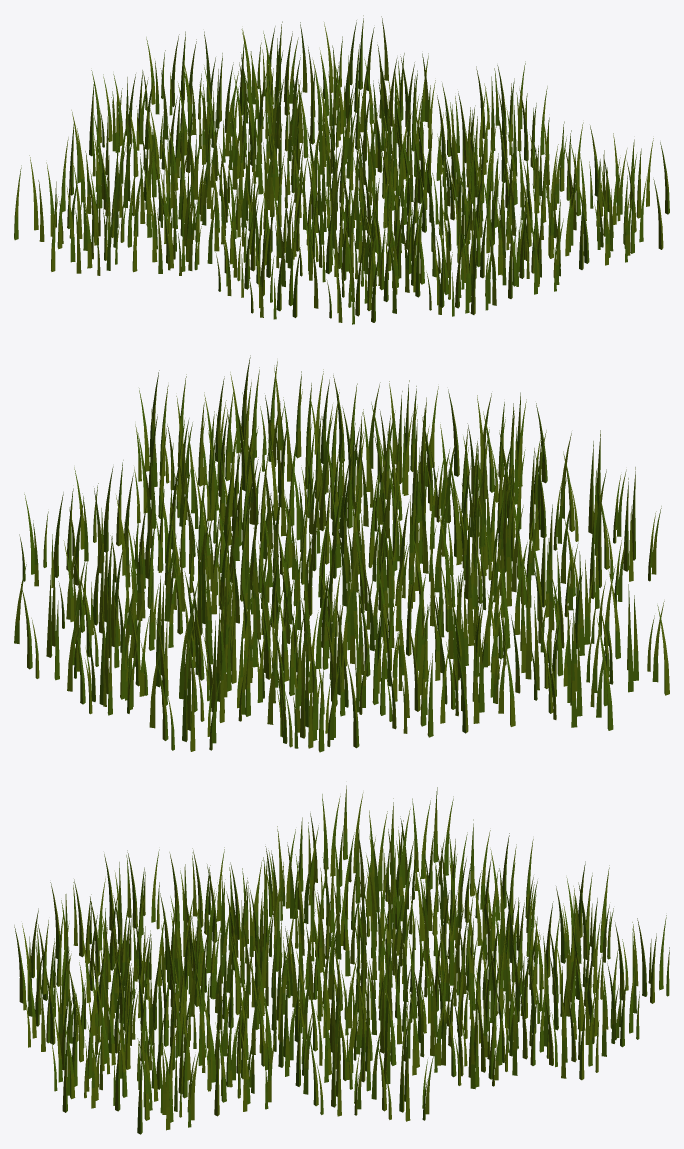
Rendered from grass (4).fbx.
3 renders of one model, top to bottom at view 1: azimuth 30°, elevation 25°; view 2: azimuth 150°, elevation 25°; view 3: azimuth 270°, elevation 25°, orthographic. The views are drawn at different scales.
Visible parts, largest first — view 1: grass.192; view 2: grass.192; view 3: grass.192.
Part boxes in pixels (box(x1,y1,x2,y2)): grass.192: box(14, 15, 669, 324); grass.192: box(14, 355, 669, 752); grass.192: box(14, 785, 669, 1134).
Bounding box in the file's own units: 1614 × 230 × 1617.
